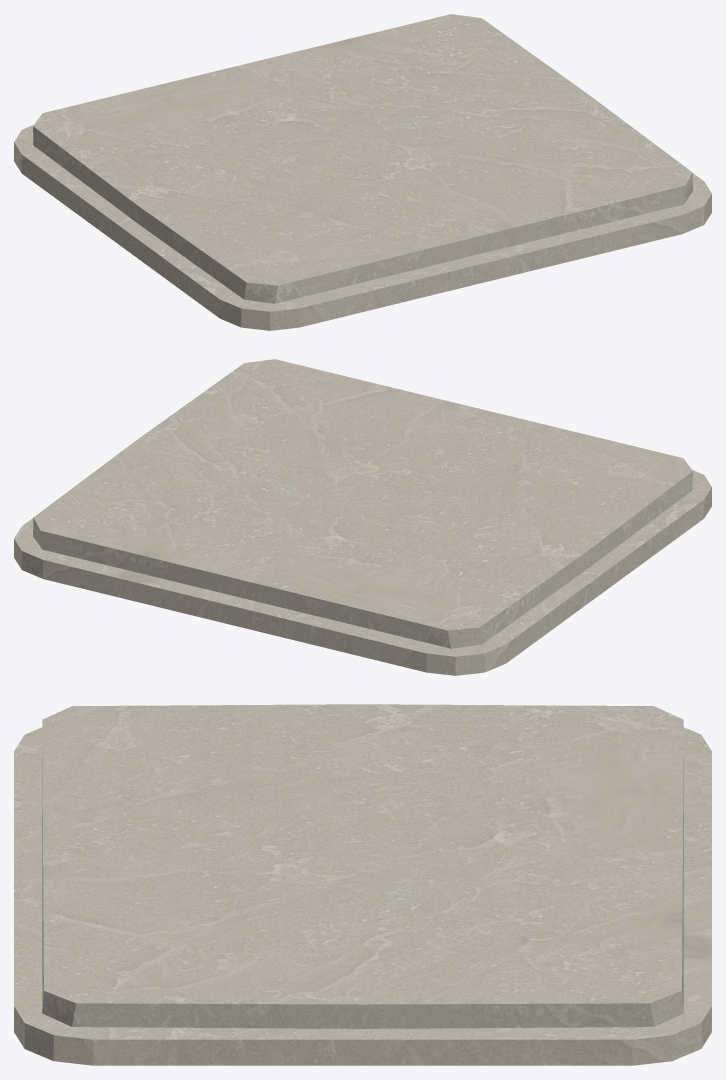
File: AlabasterPlatform.002.glb
The picture shows the model from 3 angles, top to bottom: view 1: azimuth 30°, elevation 25°; view 2: azimuth 150°, elevation 25°; view 3: azimuth 270°, elevation 25°; orthographic projection. The views are drawn at different scales.
Visible parts, largest first — view 1: AlabasterPlatform.002; view 2: AlabasterPlatform.002; view 3: AlabasterPlatform.002.
Boxes of the visible parts, x1,y1,x2,y2 form: AlabasterPlatform.002: (14,14,711,330); AlabasterPlatform.002: (14,359,711,675); AlabasterPlatform.002: (14,704,711,1065).
Size of what is drawn, in the model's own units: 3.42 by 0.2503 by 3.14.
1 material, 1 textured.
